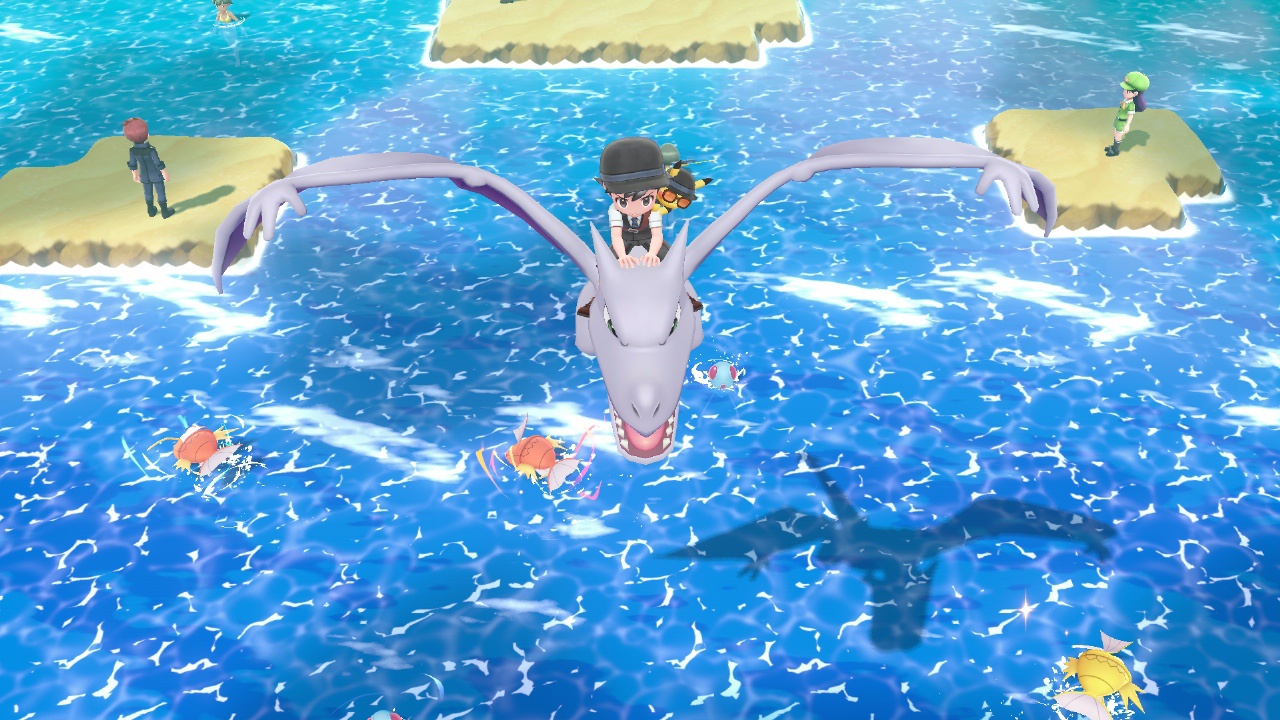Golden: (1059, 632, 1144, 719)
